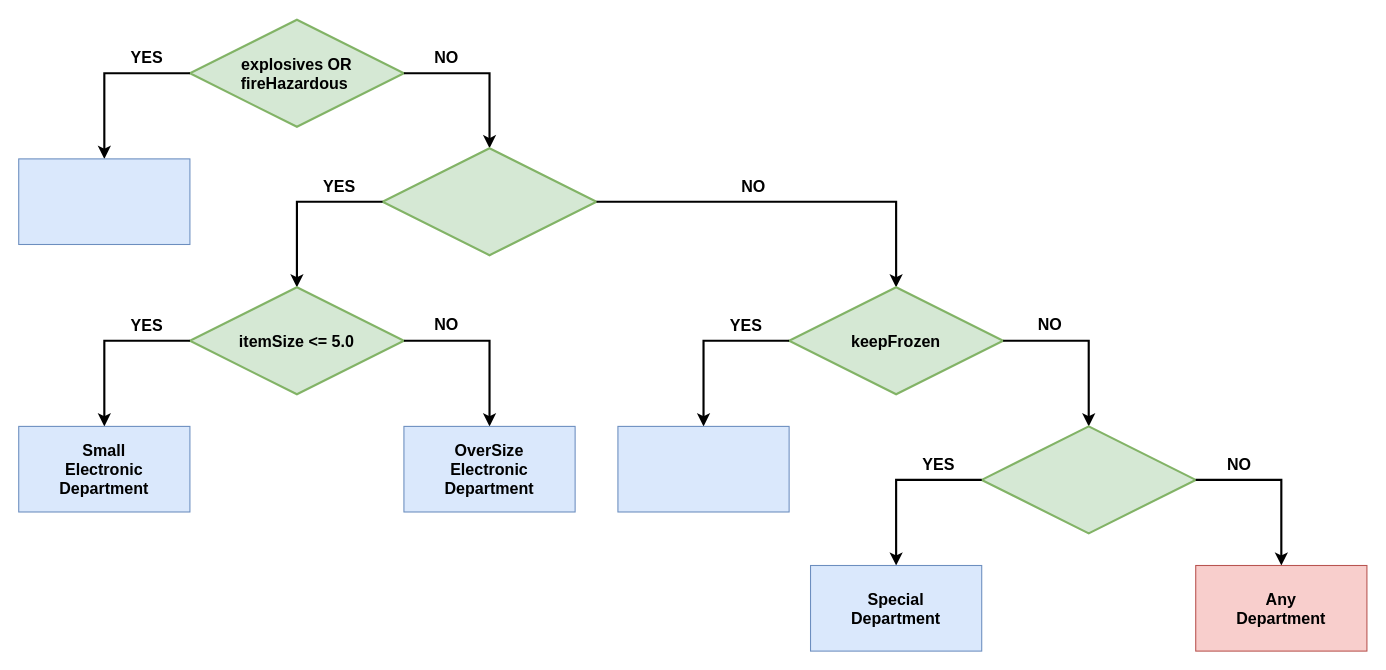
Image size: 1386x670. Some labels were removed from this diagram. Each missing label, with the box of its shape:
Cold Room Department: (617, 425, 789, 512)
esdSensitive: (381, 147, 597, 256)
fragile OR handleWithCare OR upWard: (980, 425, 1196, 534)
Hazardous Department: (18, 158, 190, 244)
